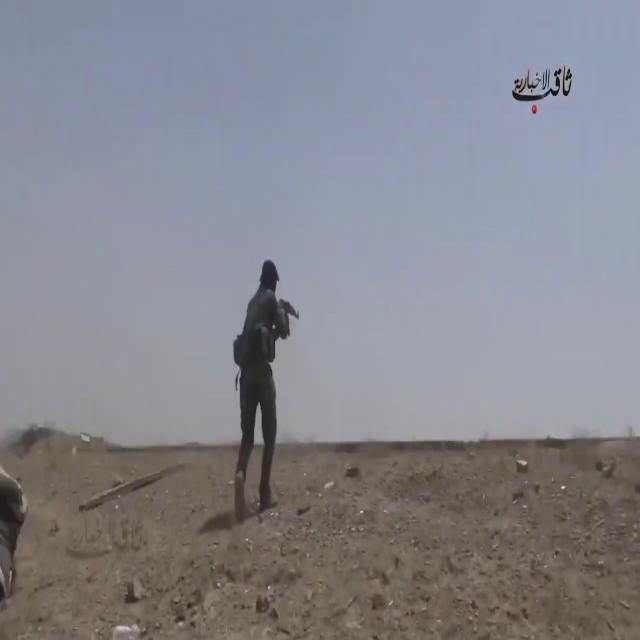long weapon: (279, 295, 302, 336)
